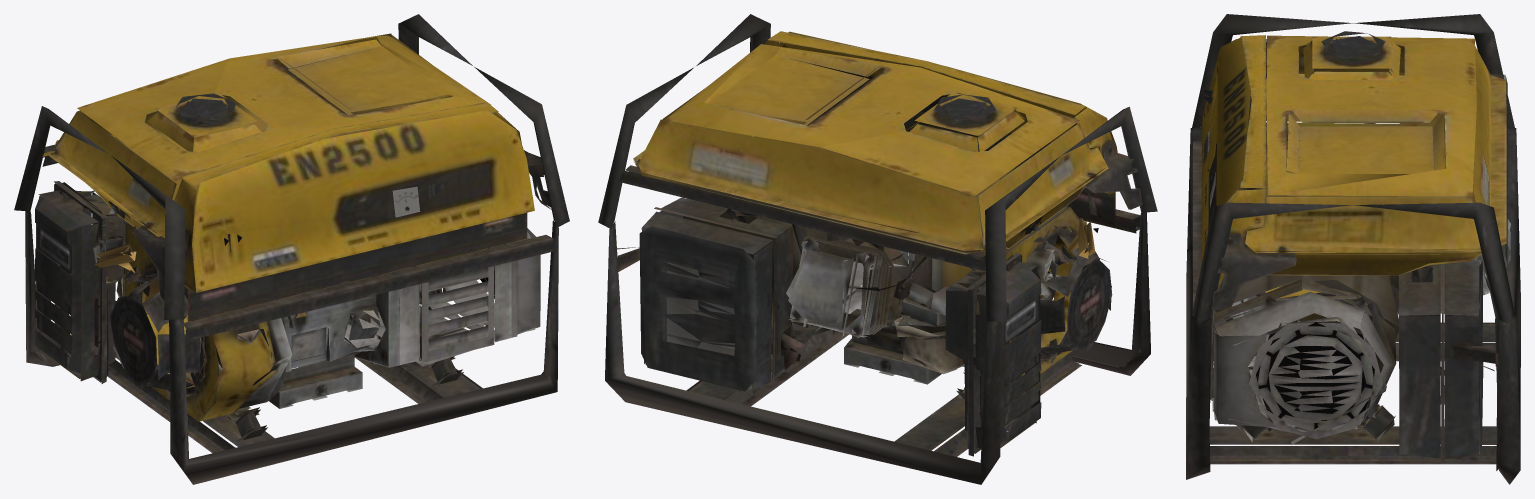
The model's file is portable_generator_1k.gltf.lod.glb.
3 views of the same model, side by side, from view 1: azimuth 30°, elevation 25°; view 2: azimuth 150°, elevation 25°; view 3: azimuth 270°, elevation 25° (orthographic). The views are drawn at different scales.
Parts seen in each view (by area): view 1: portable_generator; view 2: portable_generator; view 3: portable_generator.
Boxes of the visible parts, box(x1,y1,x2,y2) form: portable_generator: box(14, 14, 569, 484); portable_generator: box(598, 14, 1157, 484); portable_generator: box(1186, 14, 1520, 484).
Bounding box in the file's own units: 0.8217 × 0.577 × 0.5663.
2 materials, 2 textured.
